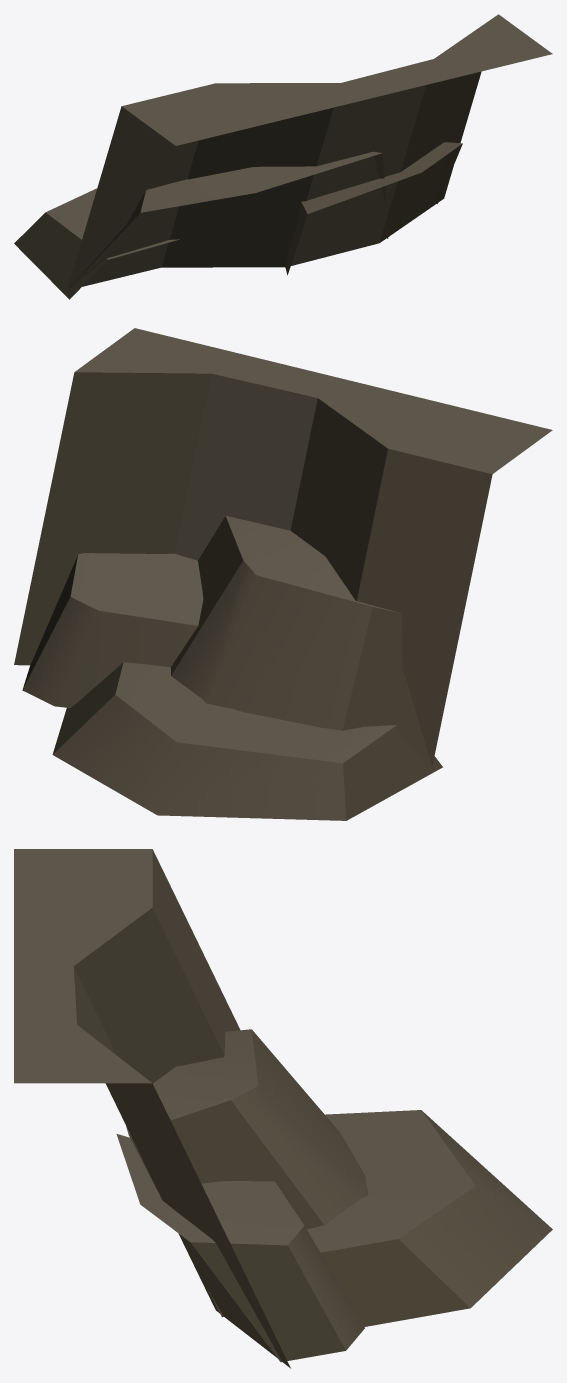
File: SF_Env_RockEdge_Straight_04.fbx
3 renders of one model, top to bottom at view 1: azimuth 30°, elevation 25°; view 2: azimuth 150°, elevation 25°; view 3: azimuth 270°, elevation 25°, orthographic. The views are drawn at different scales.
Parts seen in each view (by area): view 1: SF_Env_RockEdge_Straight_04; view 2: SF_Env_RockEdge_Straight_04; view 3: SF_Env_RockEdge_Straight_04.
Part boxes in pixels (<box>): SF_Env_RockEdge_Straight_04: <box>14,14,552,299</box>; SF_Env_RockEdge_Straight_04: <box>14,328,552,820</box>; SF_Env_RockEdge_Straight_04: <box>14,849,552,1368</box>.
Size of the model in its own units: 10.1 by 5.78 by 9.72.
